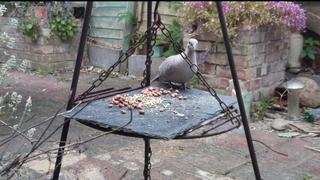collared dove: (150, 38, 198, 90)
